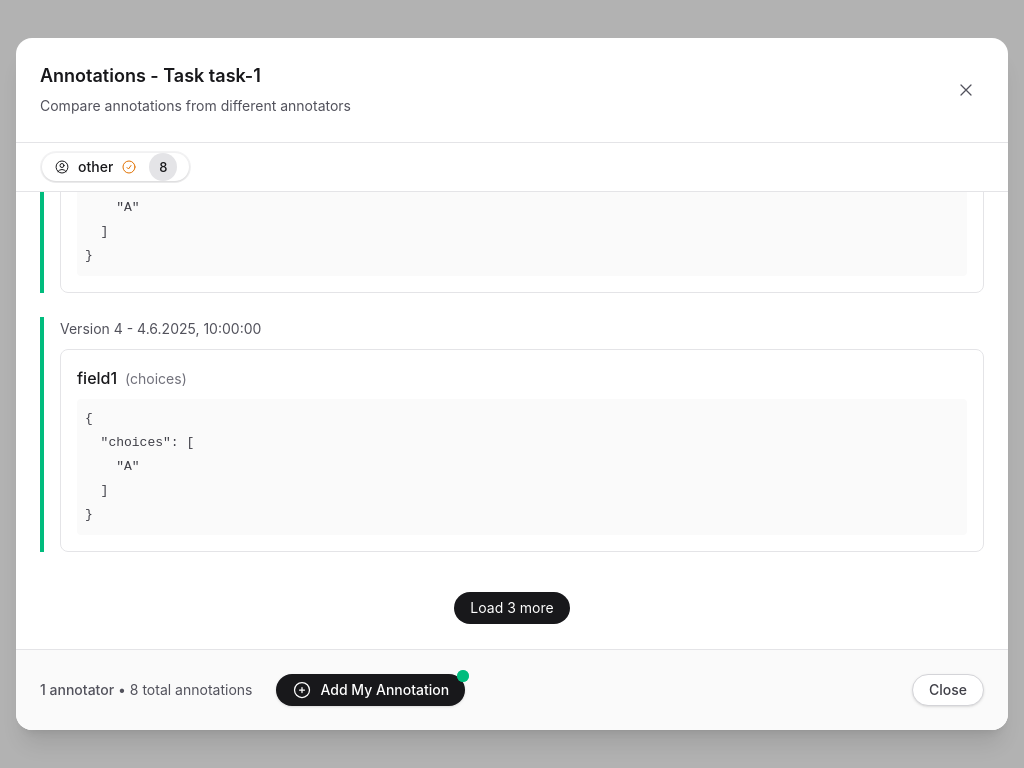
Test: TaskAnnotationComparisonModal - Surgical Coverage › shows "Load More" button for annotator with many versions and clicks it
(page scrolled)
Note: Click "Load more"
Click the button "Load 3 more": [512, 608] box [454,592,570,624]
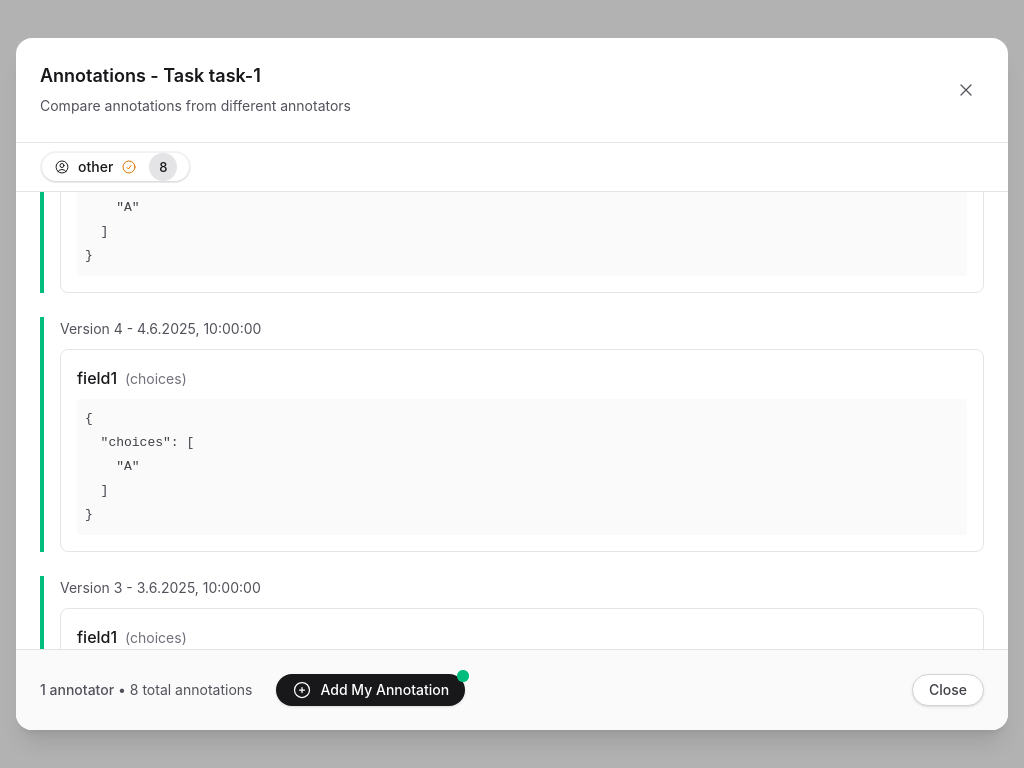
Check: the button "Load 3 more" is gone
